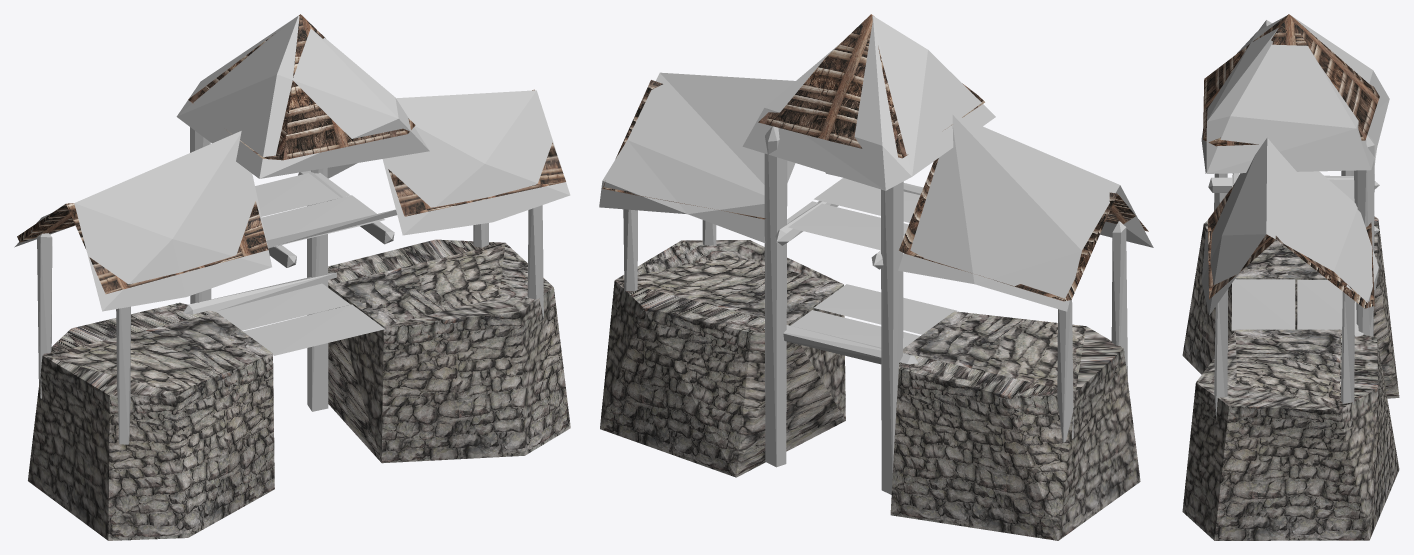
File: TowerGate_1_LOD4.fbx
3 views of the same model, side by side, from view 1: azimuth 30°, elevation 25°; view 2: azimuth 150°, elevation 25°; view 3: azimuth 270°, elevation 25° (orthographic). The views are drawn at different scales.
Parts seen in each view (by area): view 1: Stone, Alphas, Wood, Roof; view 2: Stone, Alphas, Wood, Roof; view 3: Stone, Alphas, Wood, Roof.
Boxes of the visible parts, <box> form: Stone: <box>28,239,570,540</box>; Alphas: <box>14,15,570,311</box>; Wood: <box>37,127,543,444</box>; Roof: <box>17,14,565,293</box>; Stone: <box>600,240,1140,540</box>; Alphas: <box>599,16,1153,311</box>; Wood: <box>623,126,1127,494</box>; Roof: <box>602,14,1148,301</box>; Stone: <box>1182,216,1399,540</box>; Alphas: <box>1201,16,1389,328</box>; Wood: <box>1208,134,1379,420</box>; Roof: <box>1203,14,1379,308</box>.
Bounding box in the file's own units: 1766 × 739 × 1577.
